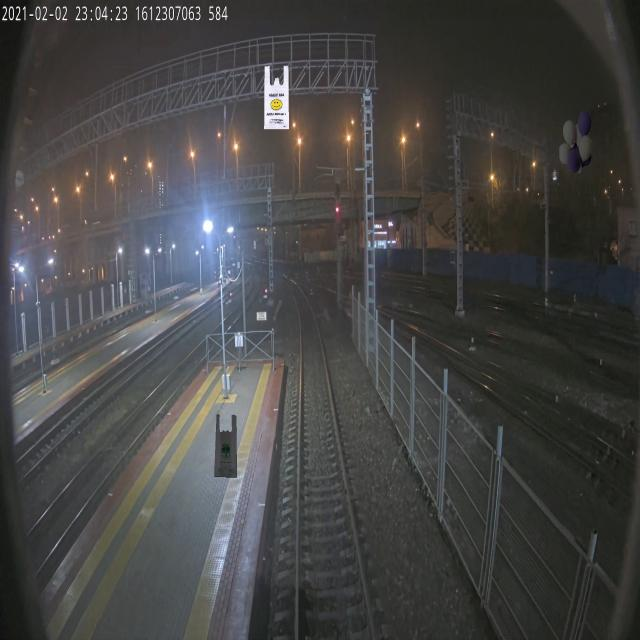balloon: (559, 110, 593, 174)
plastic bag: (264, 65, 289, 129), (215, 413, 238, 478)
